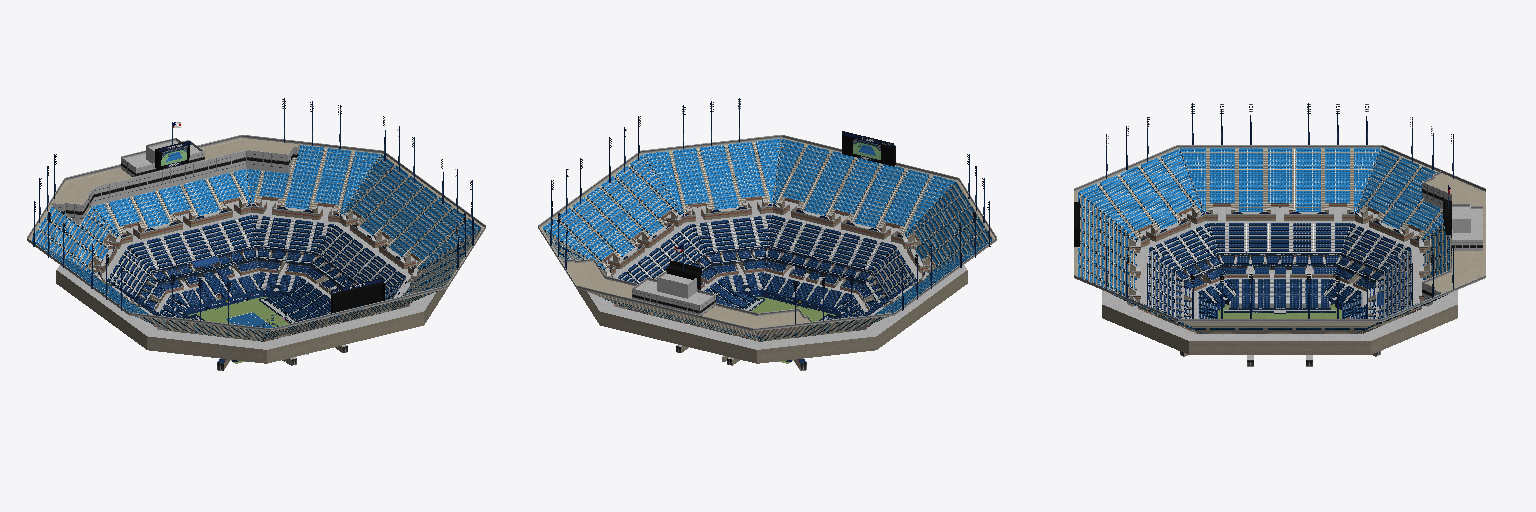
3 views of the same model, side by side, from view 1: azimuth 30°, elevation 25°; view 2: azimuth 150°, elevation 25°; view 3: azimuth 270°, elevation 25° (orthographic).
Bounding box in the file's own units: 141 × 54.7 × 141.
5 materials, 5 textured.